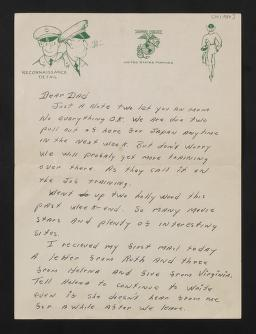page: (16, 14, 240, 318)
